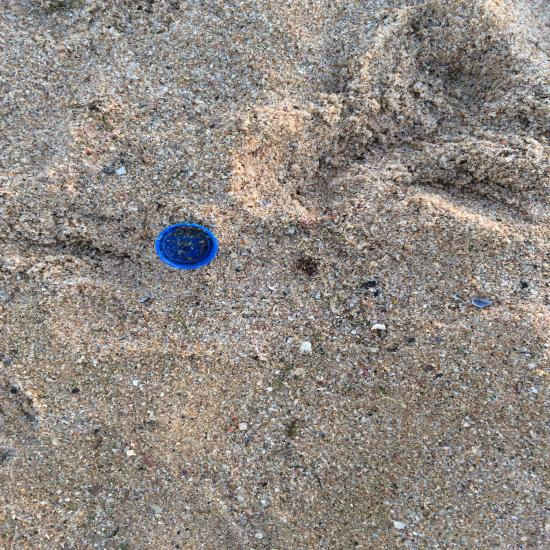Plastic bottle cap: (155, 223, 218, 269)
